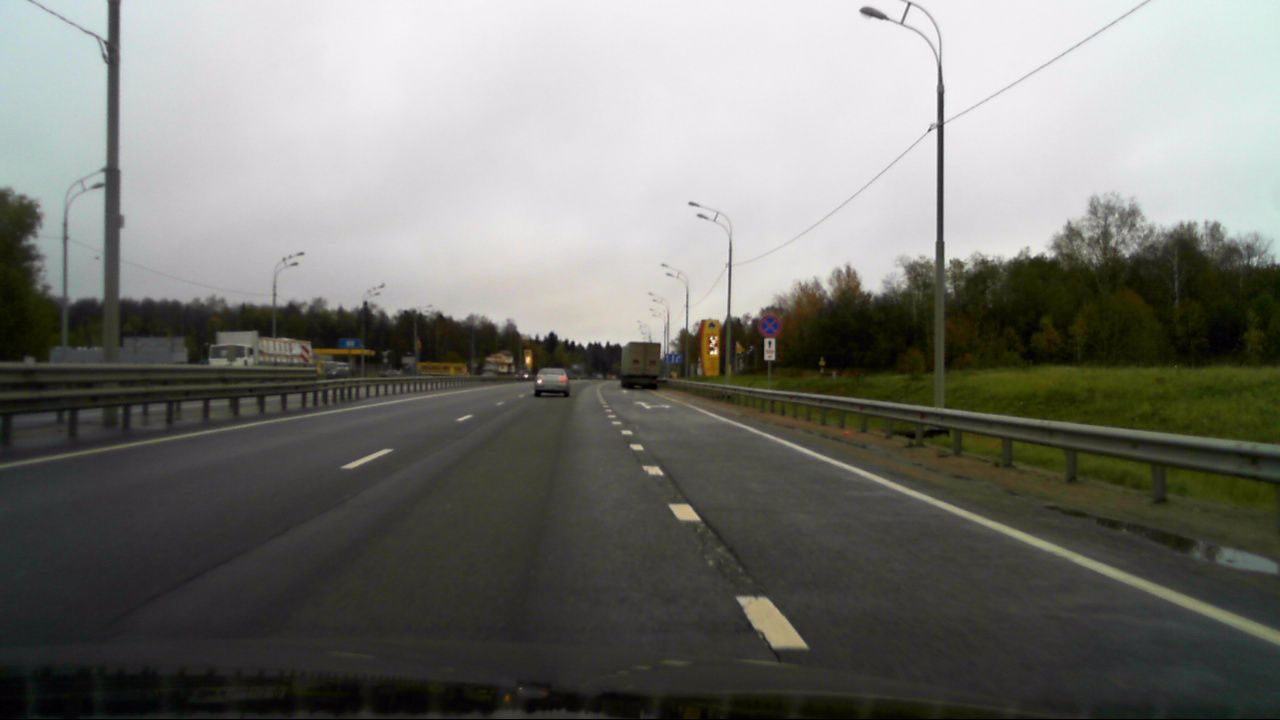No Parking: (759, 313, 780, 335)
